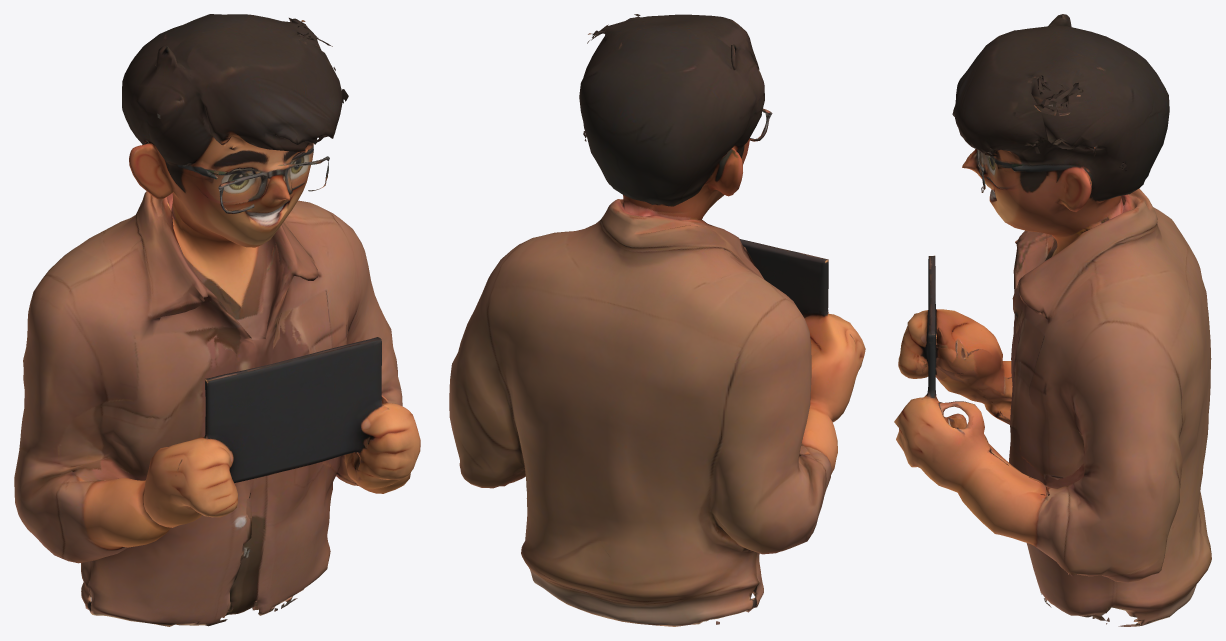
The model's file is Character_with_a_Boar_0612013041_texture.glb.
3 renders of one model, left to right at view 1: azimuth 30°, elevation 25°; view 2: azimuth 150°, elevation 25°; view 3: azimuth 270°, elevation 25°, orthographic. The views are drawn at different scales.
Size of the model in its own units: 1.35 by 2 by 1.06.
1 material, 1 textured.
